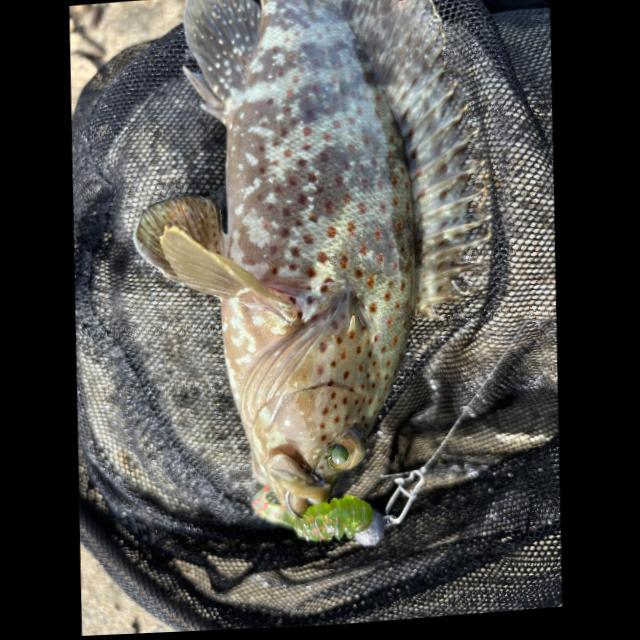Groupers: (116, 0, 501, 526)
